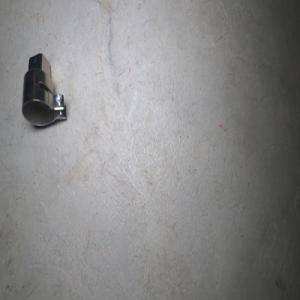MetalPart: (21, 52, 67, 127)
